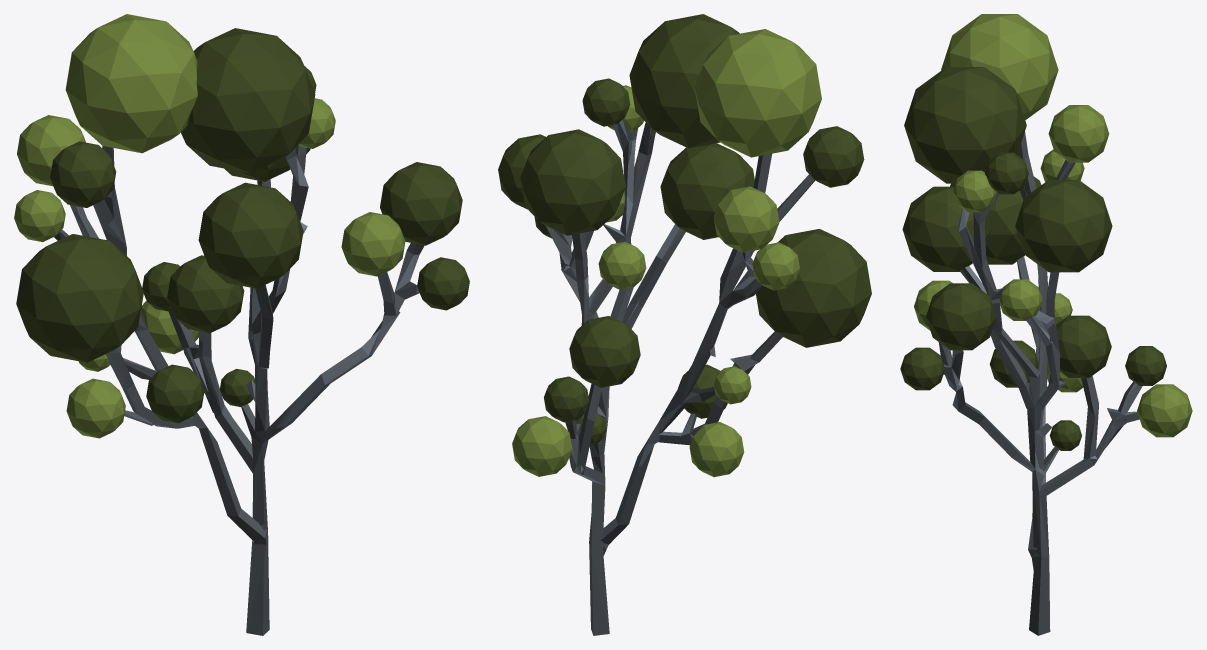
File: tree3.obj
3 views of the same model, side by side, from view 1: azimuth 30°, elevation 25°; view 2: azimuth 150°, elevation 25°; view 3: azimuth 270°, elevation 25° (orthographic). The views are drawn at different scales.
Parts seen in each view (by area): view 1: Leaves2_Icosphere.022, Leaves1_Icosphere.001, Trunk_Cube.006; view 2: Leaves2_Icosphere.022, Leaves1_Icosphere.001, Trunk_Cube.006; view 3: Leaves2_Icosphere.022, Leaves1_Icosphere.001, Trunk_Cube.006.
Boxes of the visible parts, x1=… form: Leaves2_Icosphere.022: x1=16, y1=28, x2=469, y2=423; Leaves1_Icosphere.001: x1=14, y1=14, x2=405, y2=438; Trunk_Cube.006: x1=54, y1=145, x2=424, y2=635; Leaves2_Icosphere.022: x1=498, y1=14, x2=871, y2=444; Leaves1_Icosphere.001: x1=512, y1=29, x2=821, y2=476; Trunk_Cube.006: x1=546, y1=118, x2=815, y2=635; Leaves2_Icosphere.022: x1=900, y1=67, x2=1166, y2=450; Leaves1_Icosphere.001: x1=914, y1=14, x2=1192, y2=437; Trunk_Cube.006: x1=938, y1=132, x2=1142, y2=635.
Bounding box in the file's own units: 4.2 × 6.53 × 3.12.
Materials: 1 (1 with a texture image).
